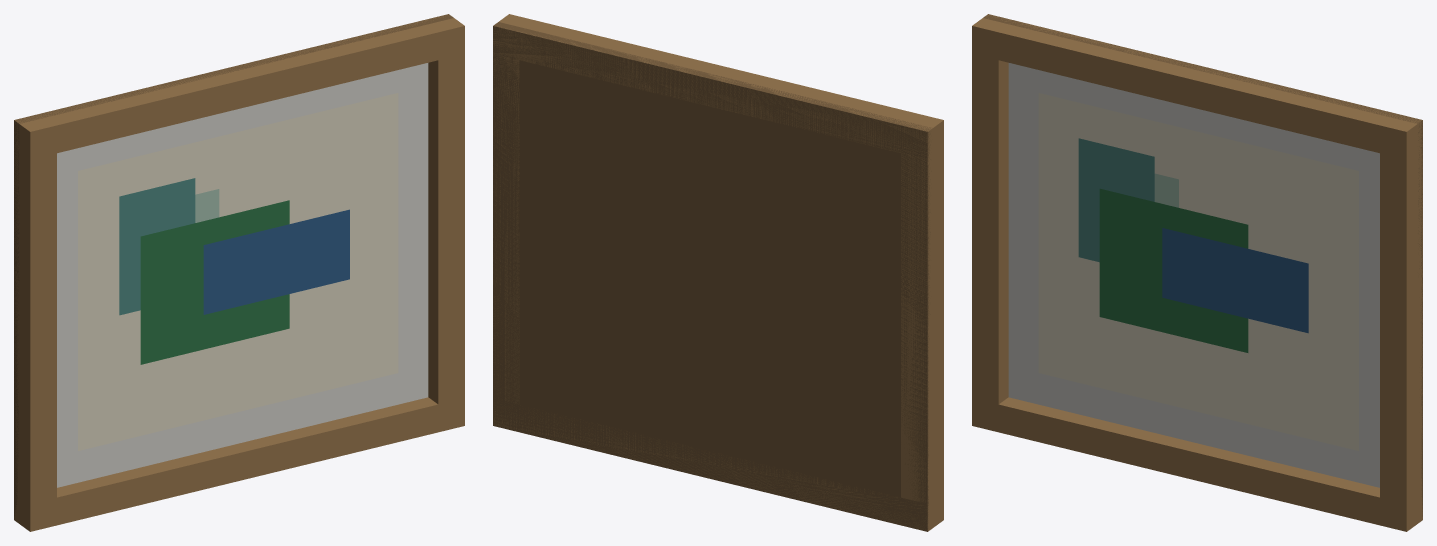
The model's file is picture-frame-17.glb.
3 views of the same model, side by side, from view 1: azimuth 30°, elevation 25°; view 2: azimuth 150°, elevation 25°; view 3: azimuth 330°, elevation 25° (orthographic).
Parts seen in each view (by area): view 1: picture_frame_17; view 2: picture_frame_17; view 3: picture_frame_17.
Part boxes in pixels (x1,y1,x2,y2): picture_frame_17: [14, 14, 464, 531]; picture_frame_17: [493, 14, 943, 531]; picture_frame_17: [972, 14, 1422, 531].
Size of the model in its own units: 0.554 by 0.4871 by 0.0358.
